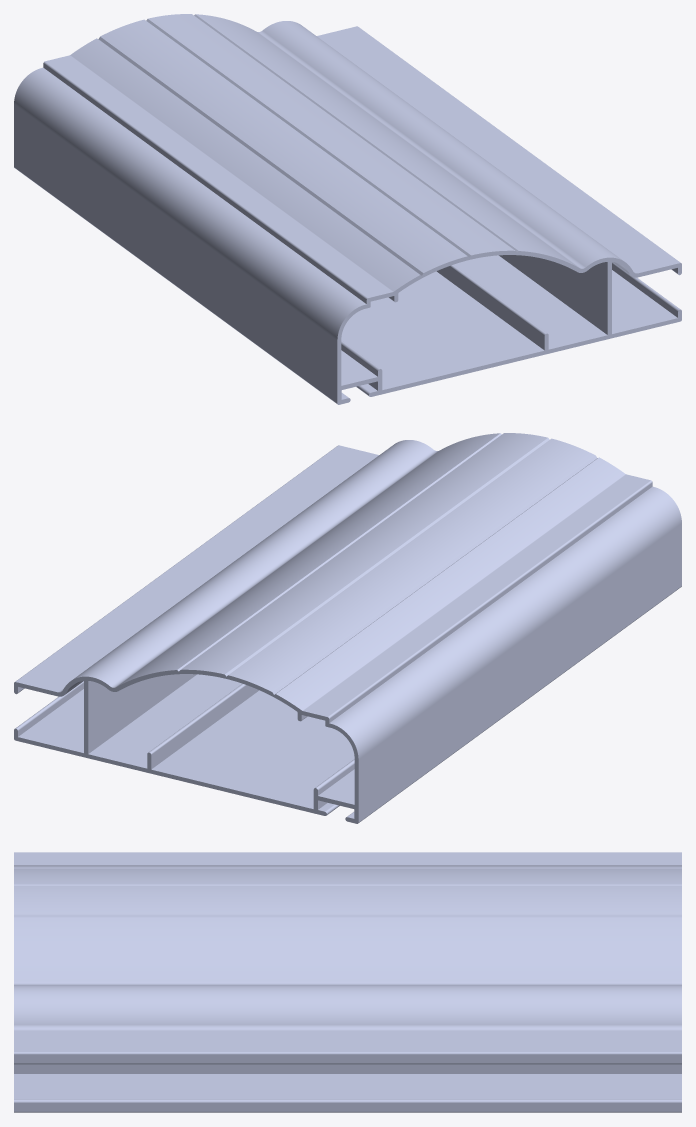
3 renders of one model, top to bottom at view 1: azimuth 30°, elevation 25°; view 2: azimuth 150°, elevation 25°; view 3: azimuth 270°, elevation 25°, orthographic. The views are drawn at different scales.
Parts seen in each view (by area): view 1: IF 589; view 2: IF 589; view 3: IF 589.
Boxes of the visible parts, bbox=[...] form: IF 589: bbox=[14, 14, 681, 404]; IF 589: bbox=[14, 433, 681, 823]; IF 589: bbox=[14, 852, 681, 1112].
Bounding box in the file's own units: 6.15 × 2 × 10.
